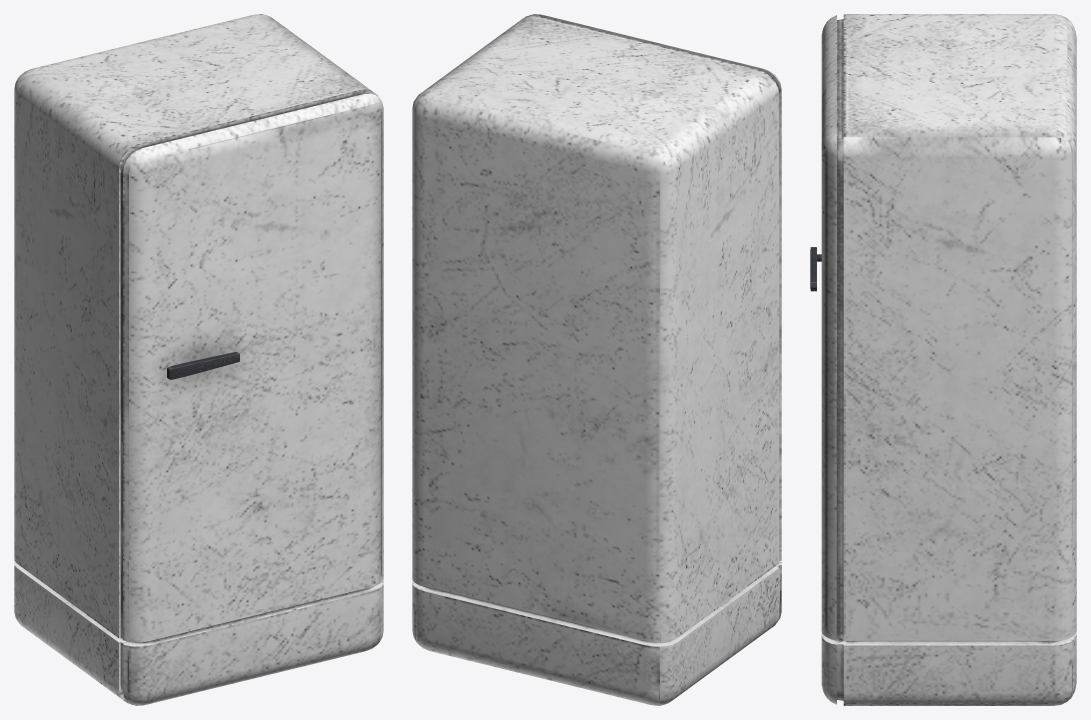
File: Frigde.fbx
3 views of the same model, side by side, from view 1: azimuth 30°, elevation 25°; view 2: azimuth 150°, elevation 25°; view 3: azimuth 270°, elevation 25° (orthographic). The views are drawn at different scales.
Parts seen in each view (by area): view 1: Cube, Cube.001; view 2: Cube; view 3: Cube.
Boxes of the visible parts, <box> form: Cube: <box>14,14,383,705</box>; Cube.001: <box>167,352,239,379</box>; Cube: <box>412,14,781,705</box>; Cube: <box>821,14,1076,705</box>.
Size of the model in its own units: 91.55 by 186 by 77.96.
